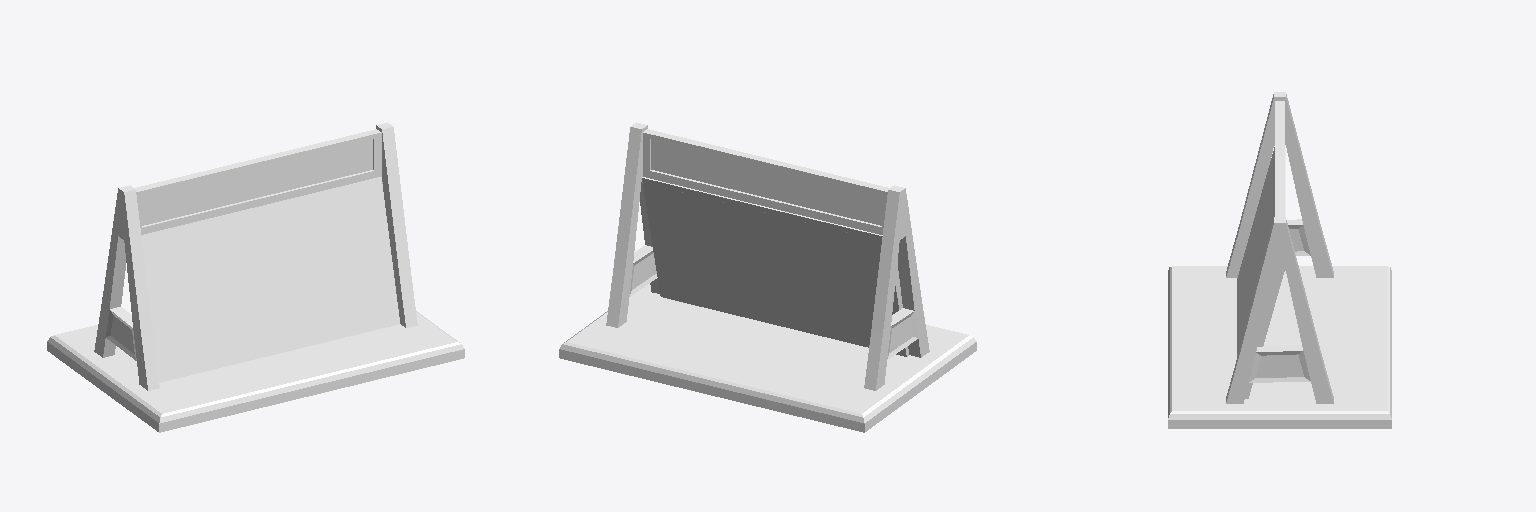
File: barrier_variant.obj
3 renders of one model, left to right at view 1: azimuth 30°, elevation 25°; view 2: azimuth 150°, elevation 25°; view 3: azimuth 270°, elevation 25°, orthographic.
Parts seen in each view (by area): view 1: Cube_Cube.001, SM_Prop_Barrier_01_Mesh, Cube.001_Cube.002; view 2: Cube.001_Cube.002, Cube_Cube.001, SM_Prop_Barrier_01_Mesh; view 3: Cube.001_Cube.002, SM_Prop_Barrier_01_Mesh, Cube_Cube.001.
Boxes of the visible parts, <box> form: Cube_Cube.001: <box>141,177,399,382</box>; SM_Prop_Barrier_01_Mesh: <box>94,122,417,390</box>; Cube.001_Cube.002: <box>47,311,464,432</box>; Cube.001_Cube.002: <box>559,283,976,432</box>; Cube_Cube.001: <box>642,177,908,356</box>; SM_Prop_Barrier_01_Mesh: <box>606,122,929,390</box>; Cube.001_Cube.002: <box>1168,266,1391,428</box>; SM_Prop_Barrier_01_Mesh: <box>1226,92,1333,403</box>; Cube_Cube.001: <box>1237,145,1285,398</box>.
Bounding box in the file's own units: 0.0216 × 0.0133 × 0.0137.